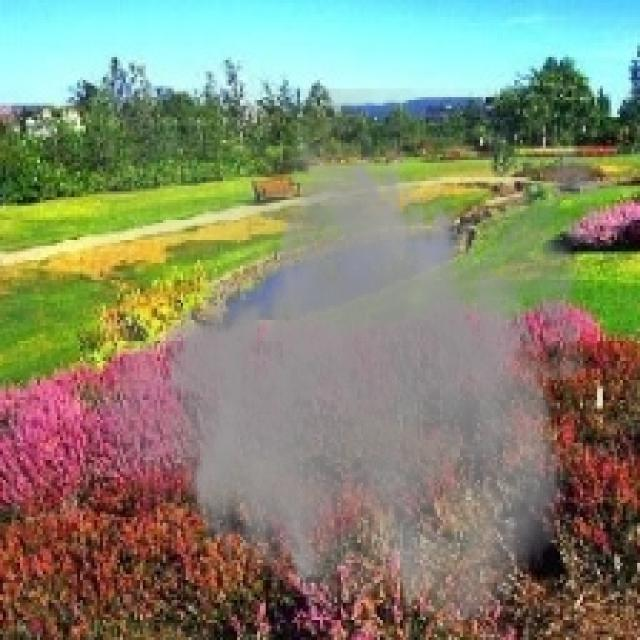Smoke: (91, 88, 623, 634)
